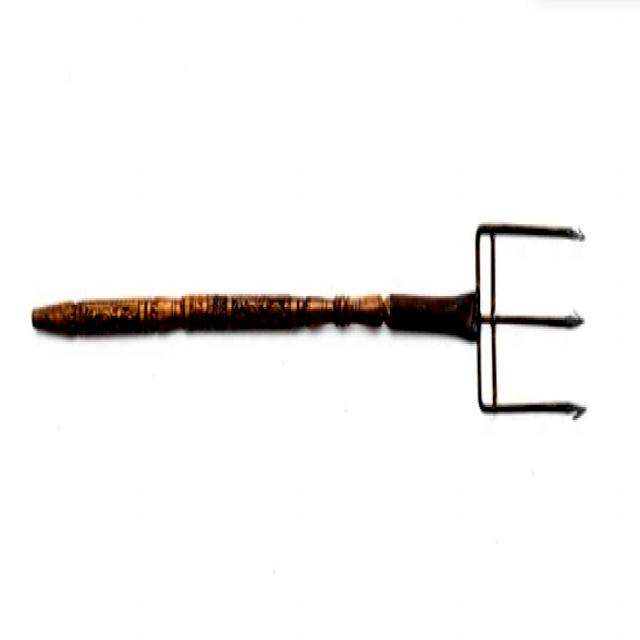spear: (23, 175, 593, 479)
